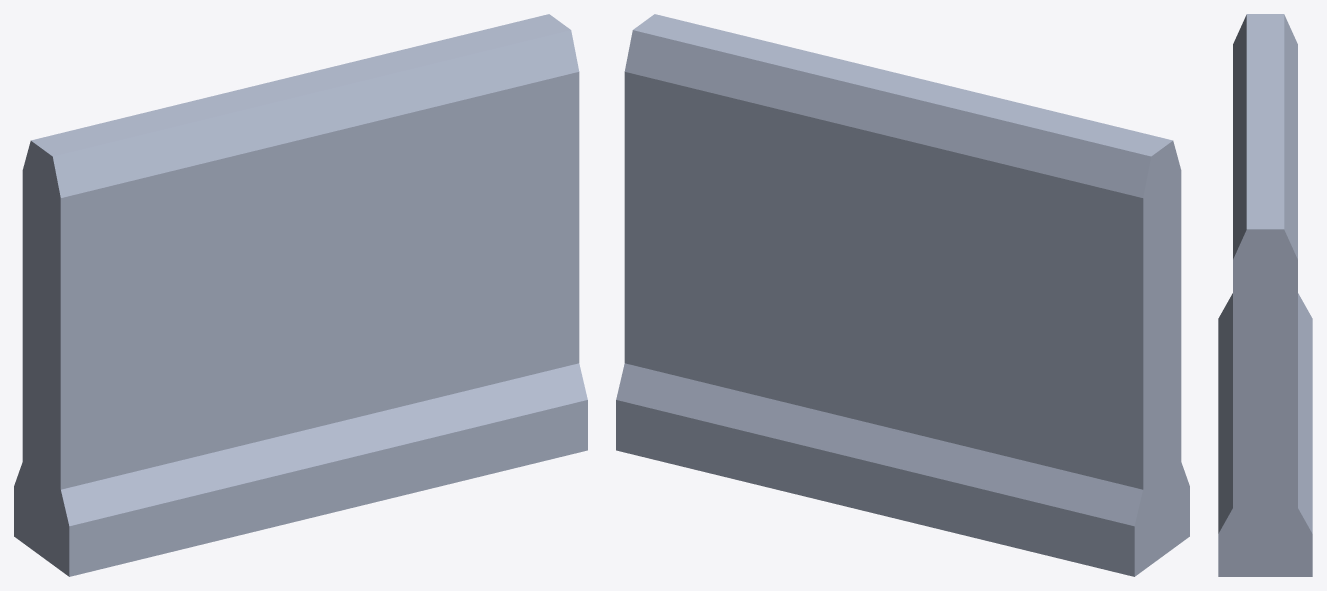
File: barrier.fbx
The picture shows the model from 3 angles, left to right: view 1: azimuth 30°, elevation 25°; view 2: azimuth 150°, elevation 25°; view 3: azimuth 270°, elevation 25°; orthographic projection. The views are drawn at different scales.
Visible parts, largest first — view 1: Cube; view 2: Cube; view 3: Cube.
Part boxes in pixels (<box>): Cube: <box>14,14,587,576</box>; Cube: <box>616,14,1189,576</box>; Cube: <box>1218,14,1312,576</box>.
Size of the model in its own units: 222 by 167 by 41.01.
